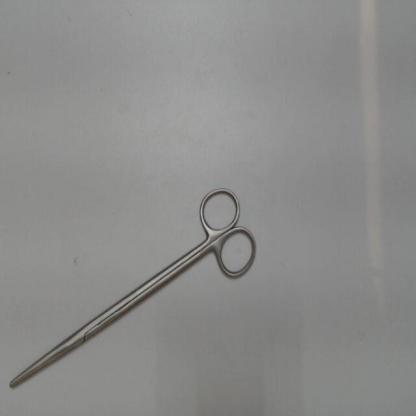9 Metzenbaum Scissors: (7, 180, 262, 396)
